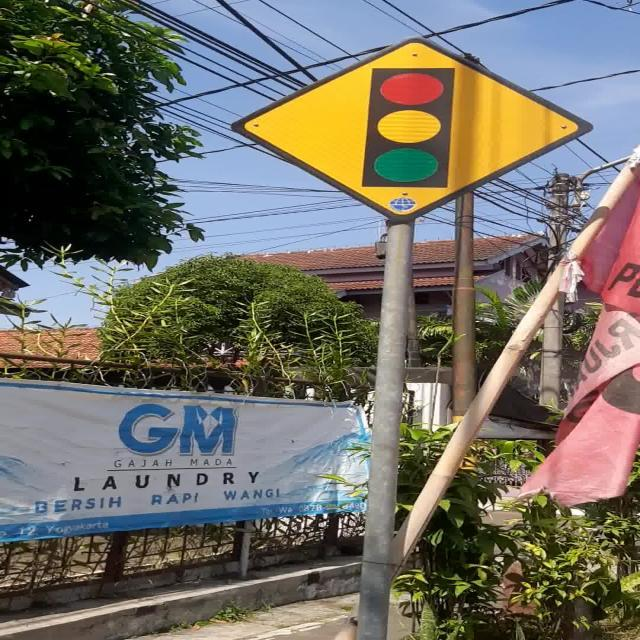Lampu Lalu Lintas: (231, 36, 594, 222)
